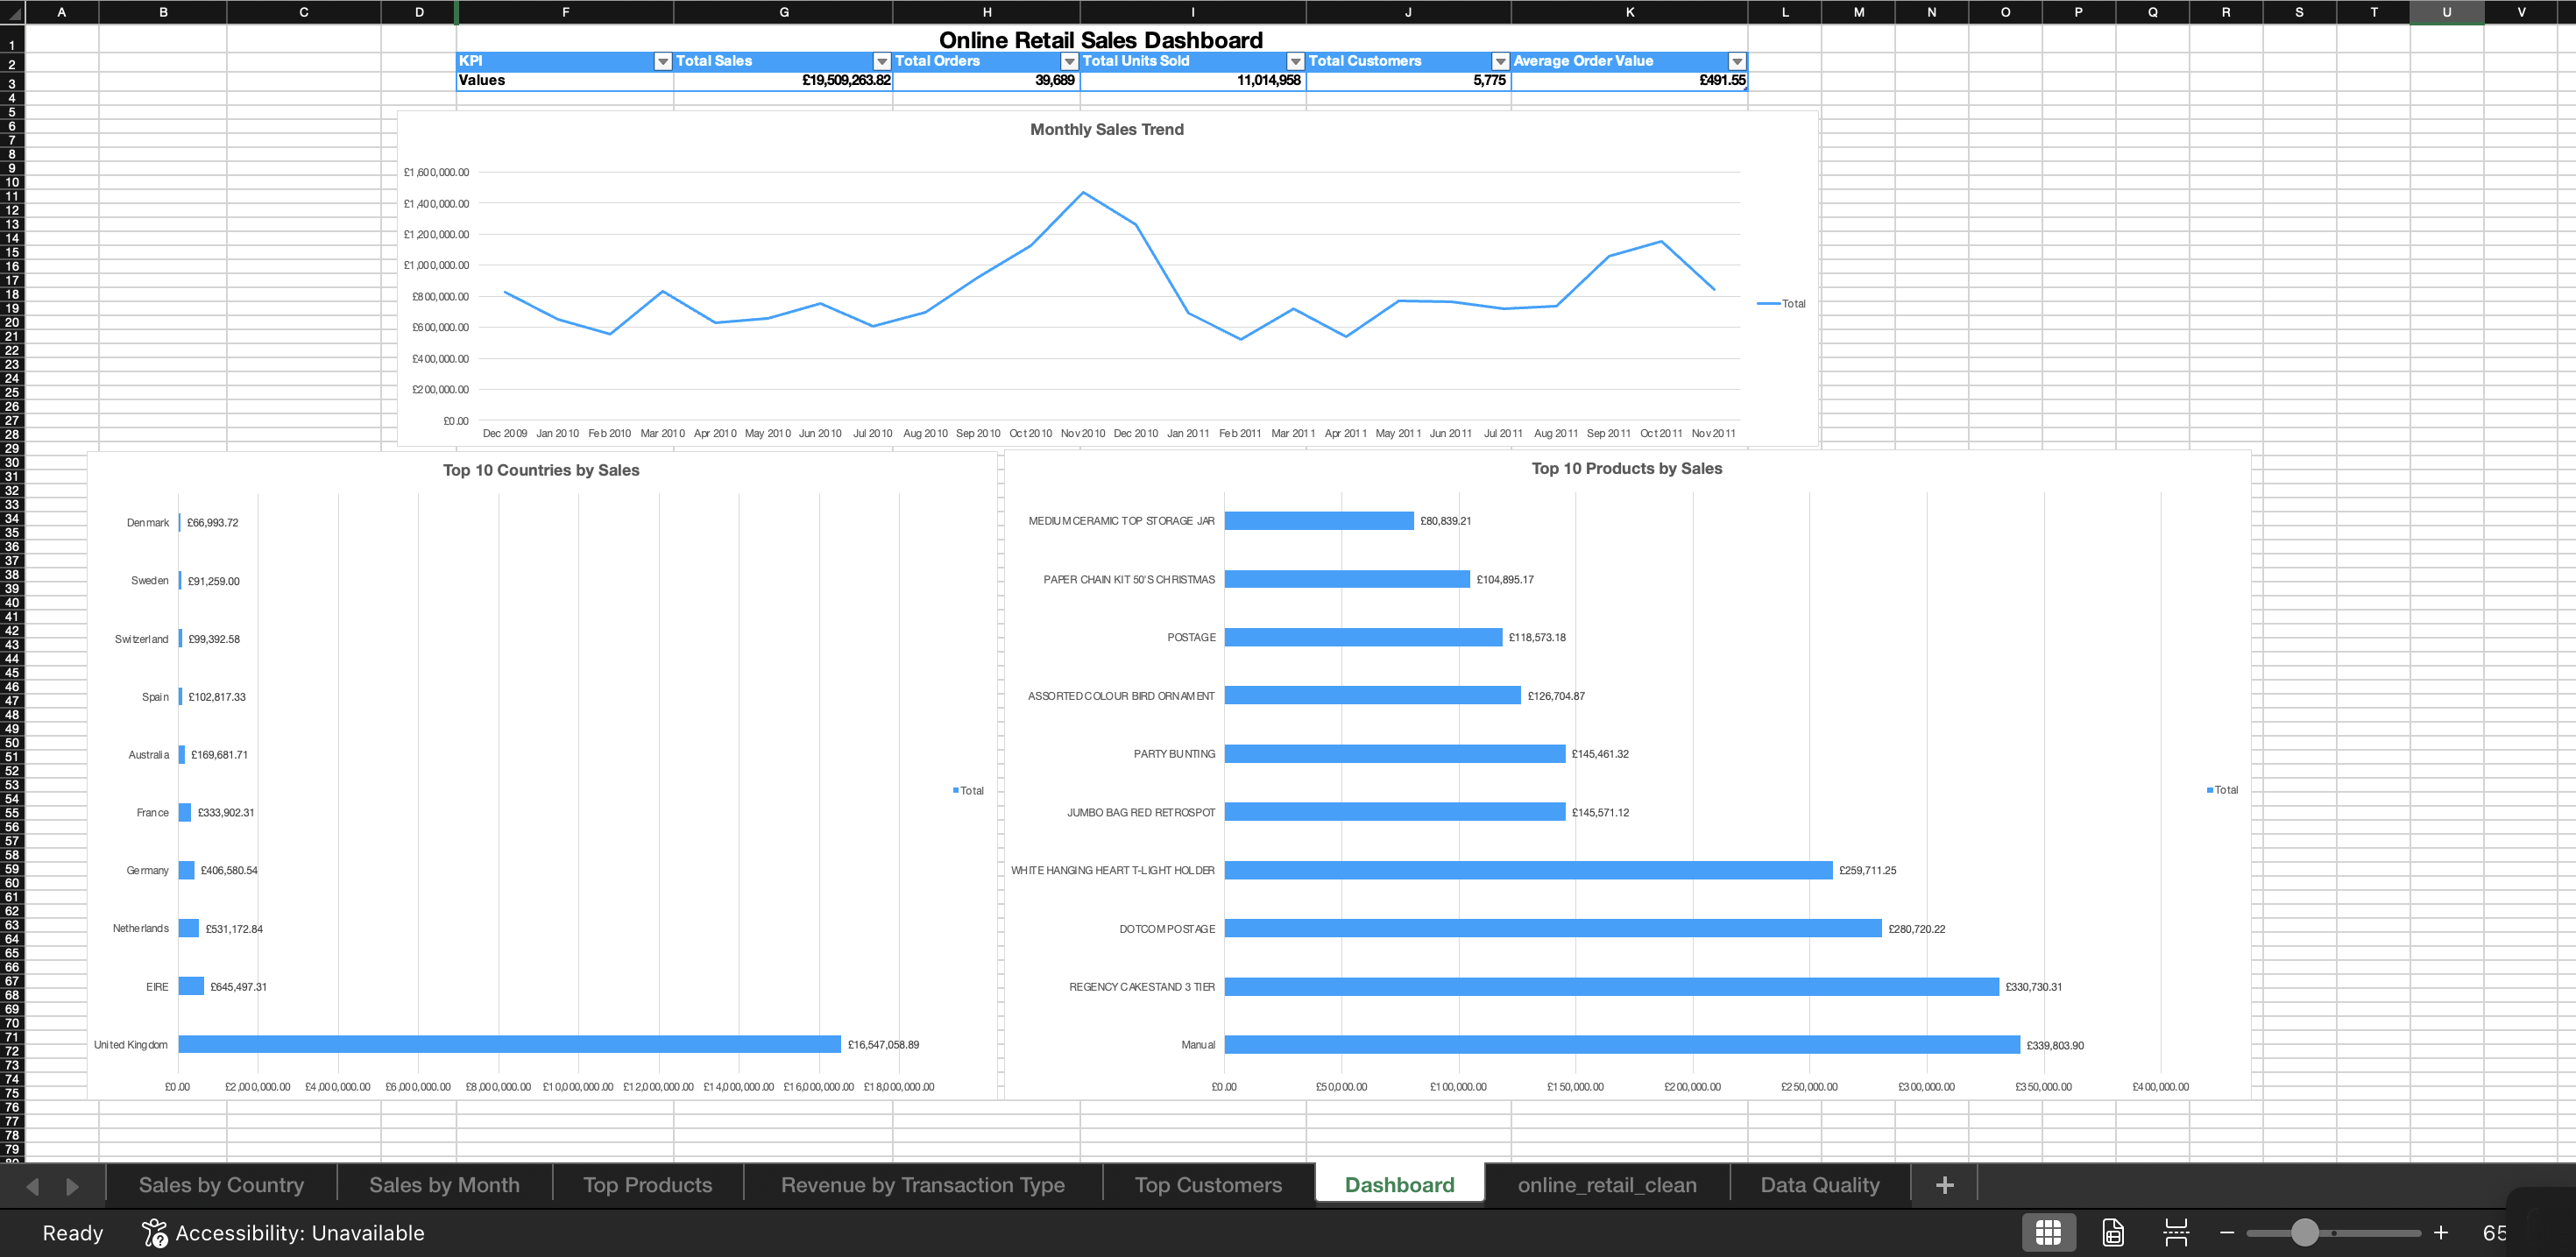

What the dashboard file says about the page in this screenshot:
{"tool":"tableau","page":{"name":"Online Retail Sales Dashboard","canvas":[1000,800],"ordinal":0},"visuals":[{"type":"text","box":[8,8,984,784]},{"type":"worksheet","title":"KPI-Total Sales","mark":"Automatic","box":[14,99,250,101]},{"type":"worksheet","title":"KPI-Total Orders","mark":"Automatic","box":[262,99,150,101]},{"type":"worksheet","title":"KPI - Total Units Sold","mark":"Automatic","box":[420,99,220,101]},{"type":"worksheet","title":"KPI - Total Customers","mark":"Automatic","box":[644,99,150,101]},{"type":"worksheet","title":"KPI - Average Order Value","mark":"Automatic","box":[807,99,175,101]},{"type":"worksheet","title":"Monthly Sales Trend","mark":"Line","rows":["Calculation_0295740168937472"],"cols":["MonthYear"],"box":[10,190,972,266]},{"type":"worksheet","title":"Top 10 Physical Products","mark":"Automatic","rows":["Description"],"cols":["Calculation_0295740168937472"],"box":[503,467,489,326]},{"type":"worksheet","title":"Top 10 Countries","mark":"Automatic","rows":["Country"],"cols":["Calculation_0295740168937472"],"box":[14,471,483,323]}]}

Visuals, with their boxes on the page's 1000x800 design canvas (x1, y1, x2, y2). These are canvas units, not pixel positions in the 2576x1257 screenshot, which may show the page scaled, cropped or inside an application window:
text: bbox=[8, 8, 992, 792]
"KPI-Total Sales" worksheet: bbox=[14, 99, 264, 200]
"KPI-Total Orders" worksheet: bbox=[262, 99, 412, 200]
"KPI - Total Units Sold" worksheet: bbox=[420, 99, 640, 200]
"KPI - Total Customers" worksheet: bbox=[644, 99, 794, 200]
"KPI - Average Order Value" worksheet: bbox=[807, 99, 982, 200]
"Monthly Sales Trend" worksheet (Line marks): bbox=[10, 190, 982, 456]
"Top 10 Physical Products" worksheet: bbox=[503, 467, 992, 793]
"Top 10 Countries" worksheet: bbox=[14, 471, 497, 794]
